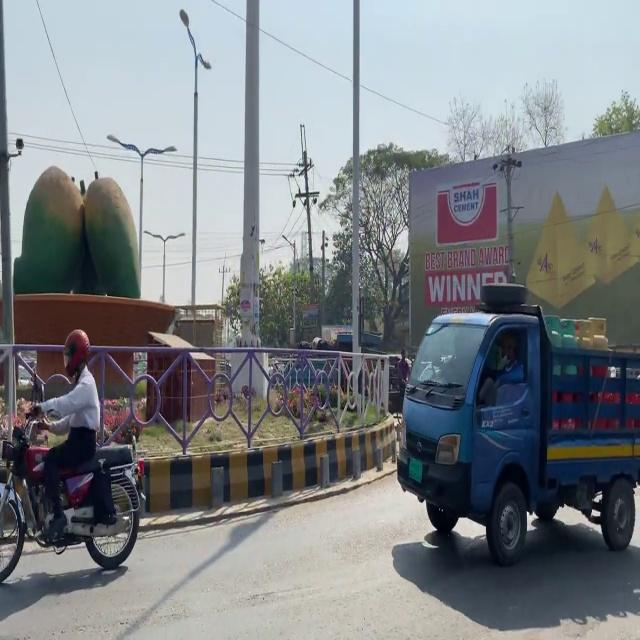Construction-barrier: (133, 413, 401, 514)
Fallen-tree: (0, 356, 147, 583)
Garbage-bin: (22, 328, 116, 540), (477, 331, 524, 405)
Light-pole: (229, 0, 268, 400), (349, 0, 363, 397)
Traffic-cone: (395, 282, 639, 566)
